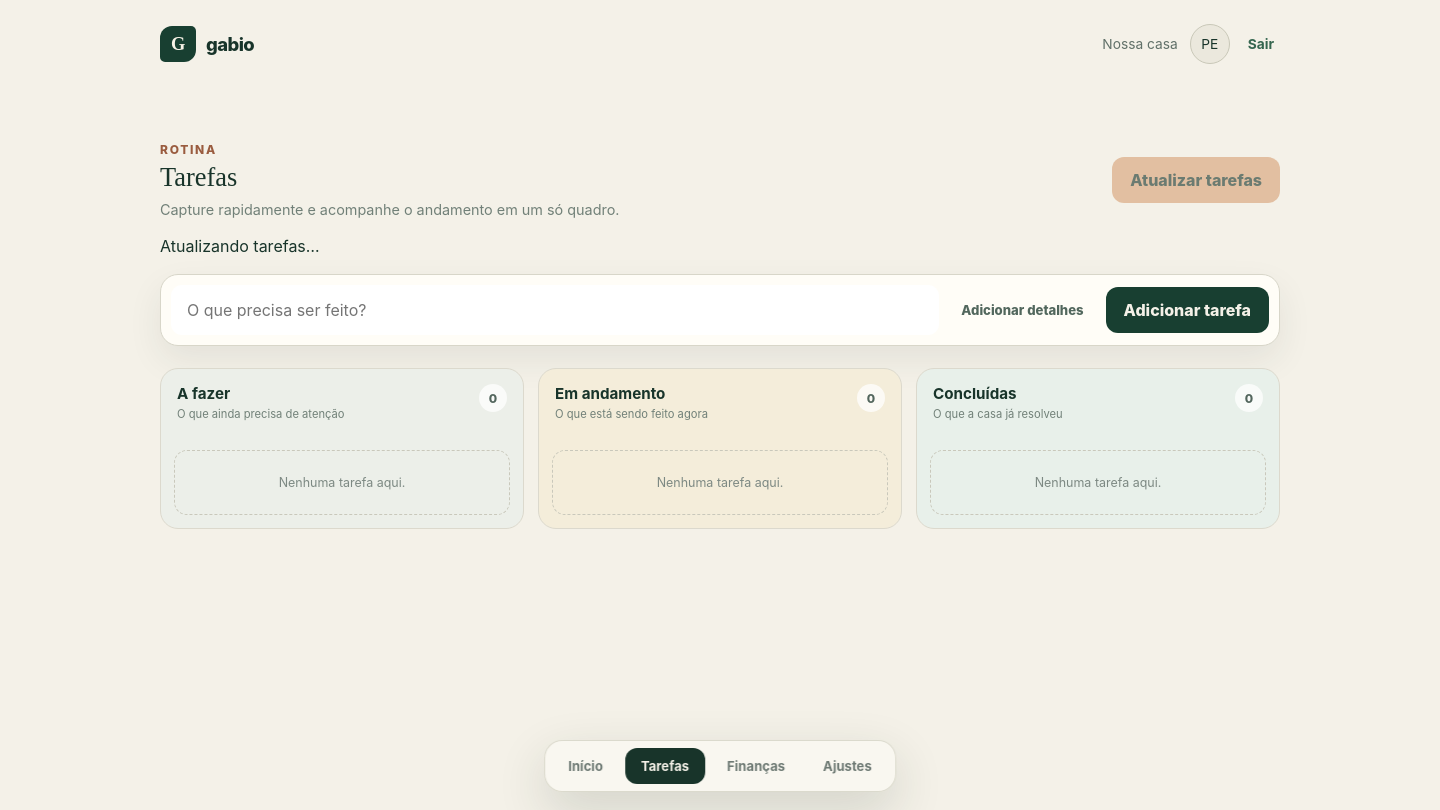
Test: App › keeps a failed network creation pending and clears the submitted form
Step 1. Type "Tarefa pendente sintética" into the field named "Título da tarefa" → point(555, 310), box [171,285,939,335]
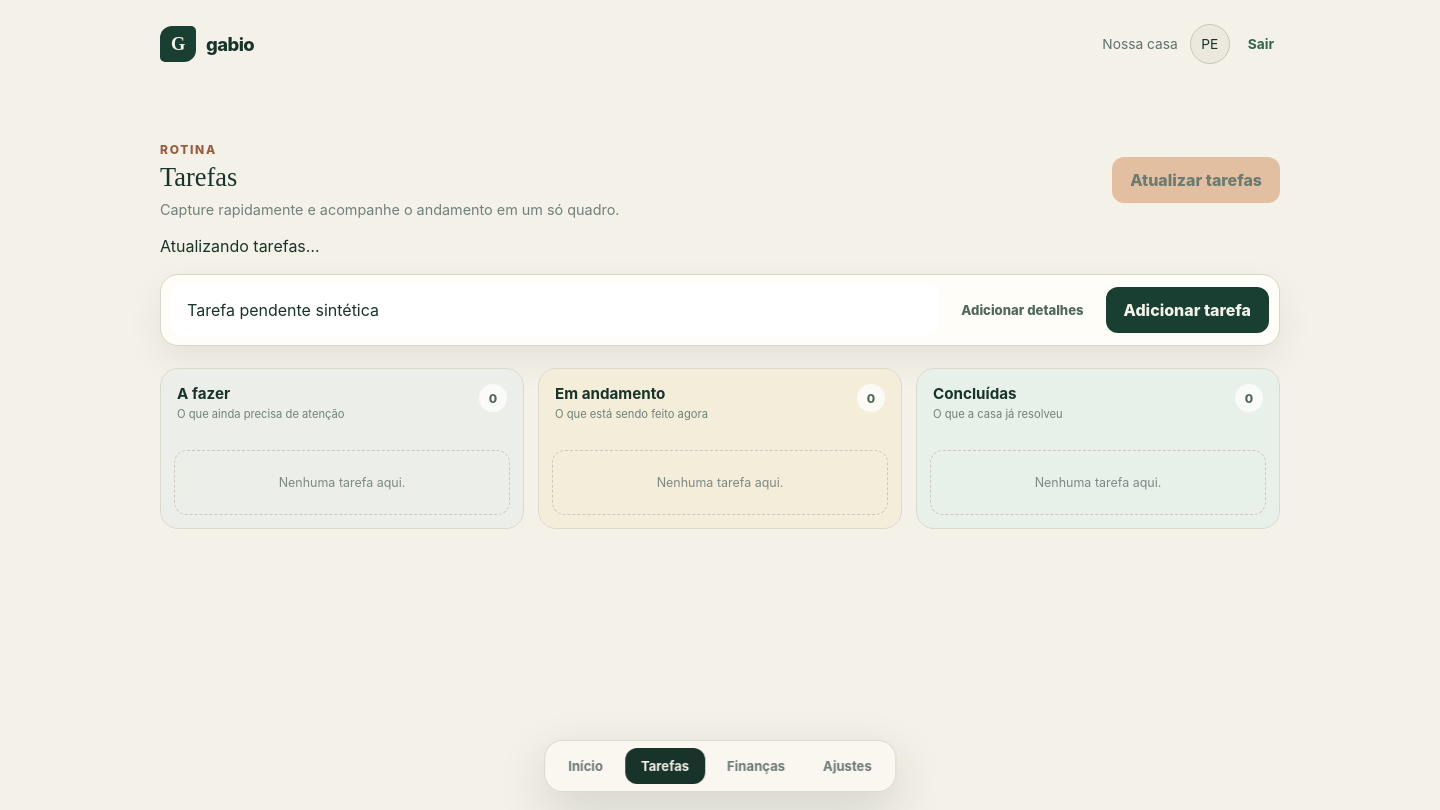
Step 2. Click the button "Adicionar tarefa" → point(1187, 310), box [1106,287,1269,333]
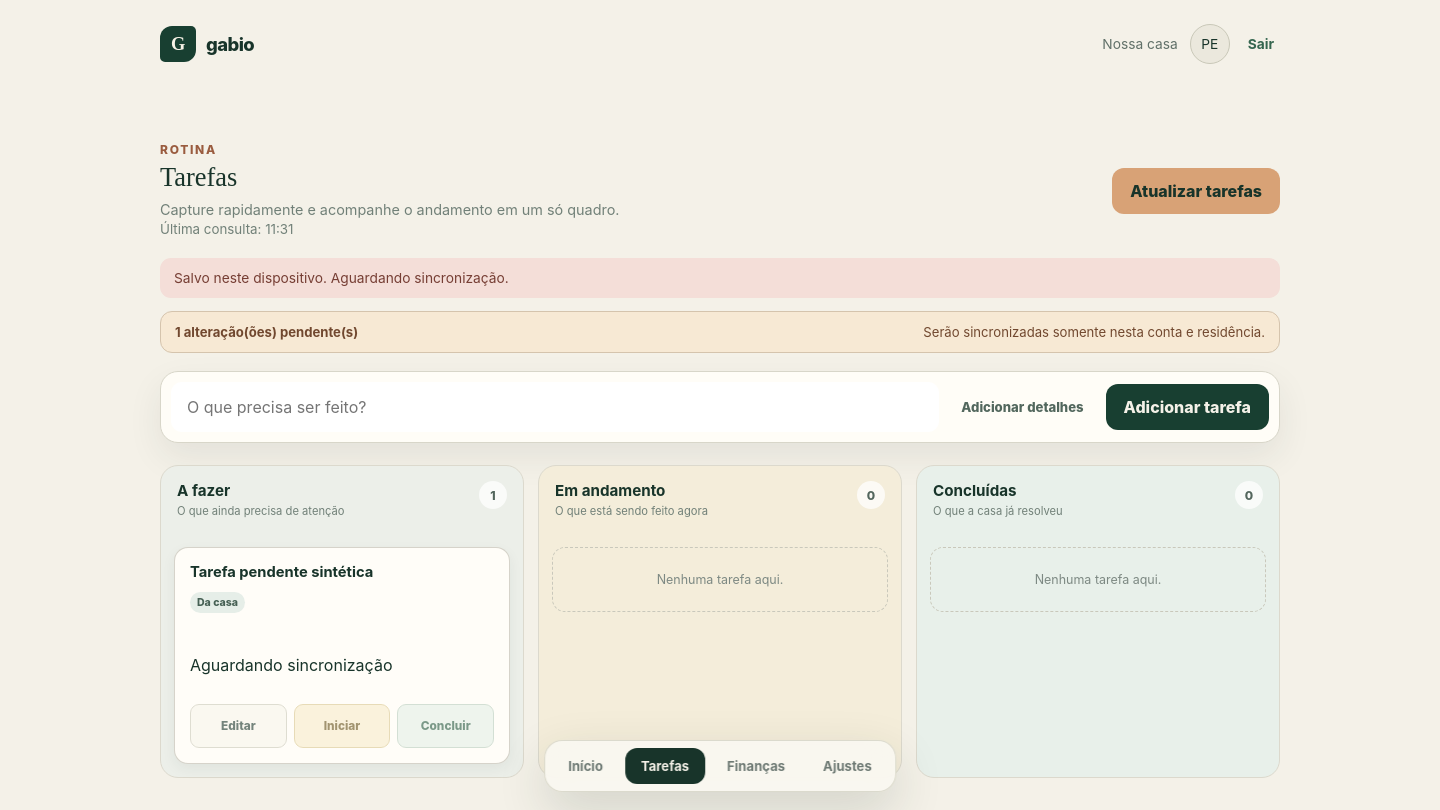
Expected: the field named "Título da tarefa" is empty, [171,382,939,432]
Expected: the text "Tarefa pendente sintética" is shown, [190,563,373,581]
Expected: the text "Aguardando sincronização" is shown, [190,655,392,675]
